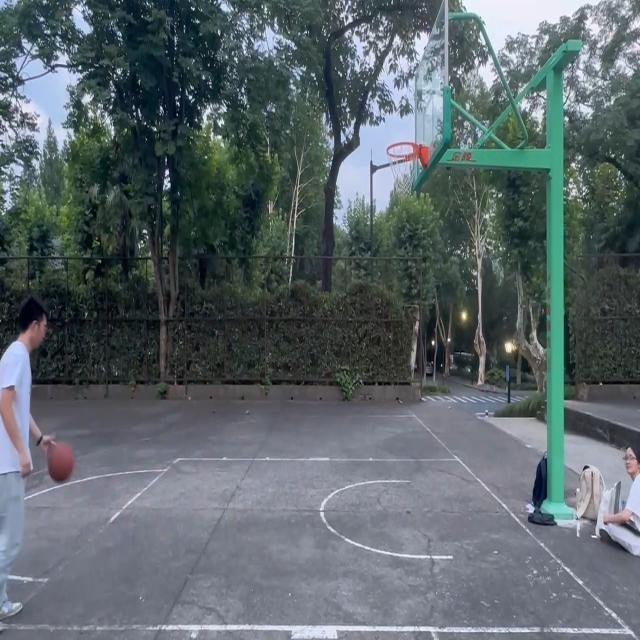basketball: (384, 143, 432, 196)
rim: (49, 440, 76, 484)
